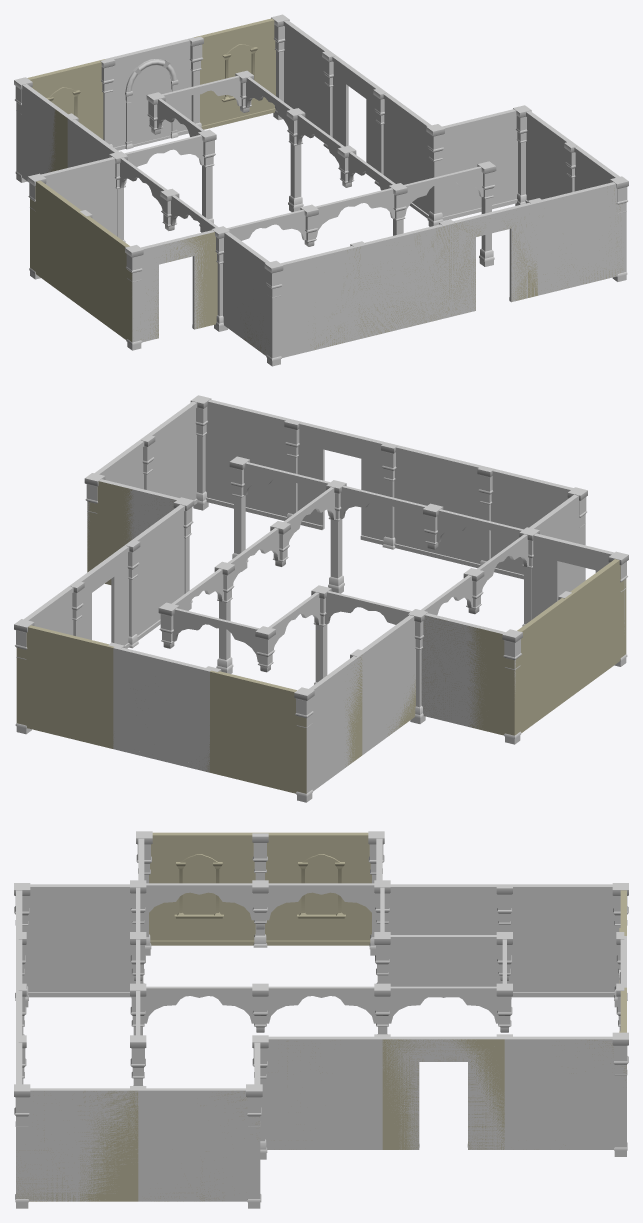
File: Homeworld_Interior_Md_Room_E_Wall_01_Vo.fbx
3 views of the same model, one above another, from view 1: azimuth 30°, elevation 25°; view 2: azimuth 150°, elevation 25°; view 3: azimuth 270°, elevation 25° (orthographic). The views are drawn at different scales.
Parts seen in each view (by area): view 1: Homeworld_Interior_Md_Room_Wall_01_Vo (×12), Homeworld_Interior_Md_Room_E_Filling_01_Vo, Homeworld_Interior_Md_Room_Wall_06_Vo (×3), Homeworld_Interior_Md_Room_Wall_03_Vo (×4), Homeworld_Interior_Md_Room_Wall_04_Vo (×11), Homeworld_Interior_Md_Room_Pillar_01_Vo (×11), Homeworld_Interior_Md_Room_Wall_07_Vo, Homeworld_Interior_Md_Room_Pillar_02_Vo (×4), Homeworld_Interior_Md_Room_Pillar_03_Vo; view 2: Homeworld_Interior_Md_Room_Wall_01_Vo (×12), Homeworld_Interior_Md_Room_E_Filling_01_Vo, Homeworld_Interior_Md_Room_Wall_04_Vo (×11), Homeworld_Interior_Md_Room_Wall_06_Vo (×3), Homeworld_Interior_Md_Room_Wall_07_Vo, Homeworld_Interior_Md_Room_Pillar_01_Vo (×10), Homeworld_Interior_Md_Room_Wall_03_Vo (×4), Homeworld_Interior_Md_Room_Pillar_02_Vo (×4), Homeworld_Interior_Md_Room_Pillar_03_Vo (×3); view 3: Homeworld_Interior_Md_Room_Wall_01_Vo (×7), Homeworld_Interior_Md_Room_Wall_03_Vo (×2), Homeworld_Interior_Md_Room_E_Filling_01_Vo, Homeworld_Interior_Md_Room_Wall_04_Vo (×6), Homeworld_Interior_Md_Room_Pillar_01_Vo (×14), Homeworld_Interior_Md_Room_Wall_06_Vo, Homeworld_Interior_Md_Room_Pillar_03_Vo (×5), Homeworld_Interior_Md_Room_Pillar_02_Vo (×2).
Part boxes in pixels (x1=…): Homeworld_Interior_Md_Room_Wall_01_Vo (×12): x1=16, y1=20, x2=626, y2=358; Homeworld_Interior_Md_Room_E_Filling_01_Vo: x1=30, y1=108, x2=622, y2=356; Homeworld_Interior_Md_Room_Wall_06_Vo (×3): x1=131, y1=53, x2=537, y2=342; Homeworld_Interior_Md_Room_Wall_03_Vo (×4): x1=27, y1=18, x2=275, y2=341; Homeworld_Interior_Md_Room_Wall_04_Vo (×11): x1=119, y1=75, x2=483, y2=240; Homeworld_Interior_Md_Room_Pillar_01_Vo (×11): x1=109, y1=14, x2=531, y2=366; Homeworld_Interior_Md_Room_Wall_07_Vo: x1=105, y1=37, x2=193, y2=150; Homeworld_Interior_Md_Room_Pillar_02_Vo (×4): x1=100, y1=36, x2=385, y2=186; Homeworld_Interior_Md_Room_Pillar_03_Vo: x1=300, y1=204, x2=318, y2=246; Homeworld_Interior_Md_Room_Wall_01_Vo (×12): x1=24, y1=399, x2=585, y2=793; Homeworld_Interior_Md_Room_E_Filling_01_Vo: x1=16, y1=481, x2=626, y2=793; Homeworld_Interior_Md_Room_Wall_04_Vo (×11): x1=172, y1=462, x2=528, y2=661; Homeworld_Interior_Md_Room_Wall_06_Vo (×3): x1=73, y1=420, x2=625, y2=648; Homeworld_Interior_Md_Room_Wall_07_Vo: x1=113, y1=647, x2=210, y2=772; Homeworld_Interior_Md_Room_Pillar_01_Vo (×10): x1=173, y1=395, x2=539, y2=802; Homeworld_Interior_Md_Room_Wall_03_Vo (×4): x1=28, y1=559, x2=619, y2=762; Homeworld_Interior_Md_Room_Pillar_02_Vo (×4): x1=126, y1=419, x2=494, y2=648; Homeworld_Interior_Md_Room_Pillar_03_Vo (×3): x1=158, y1=503, x2=443, y2=672; Homeworld_Interior_Md_Room_Wall_01_Vo (×7): x1=16, y1=884, x2=626, y2=1201; Homeworld_Interior_Md_Room_Wall_03_Vo (×2): x1=149, y1=832, x2=371, y2=945; Homeworld_Interior_Md_Room_E_Filling_01_Vo: x1=16, y1=1039, x2=622, y2=1201; Homeworld_Interior_Md_Room_Wall_04_Vo (×6): x1=144, y1=883, x2=498, y2=1023; Homeworld_Interior_Md_Room_Pillar_01_Vo (×14): x1=14, y1=831, x2=628, y2=1208; Homeworld_Interior_Md_Room_Wall_06_Vo: x1=382, y1=1036, x2=504, y2=1149; Homeworld_Interior_Md_Room_Pillar_03_Vo (×5): x1=130, y1=880, x2=512, y2=1032; Homeworld_Interior_Md_Room_Pillar_02_Vo (×2): x1=252, y1=833, x2=512, y2=998.
Size of what is drawn, in the model's own units: 25.17 by 5.34 by 25.17.
